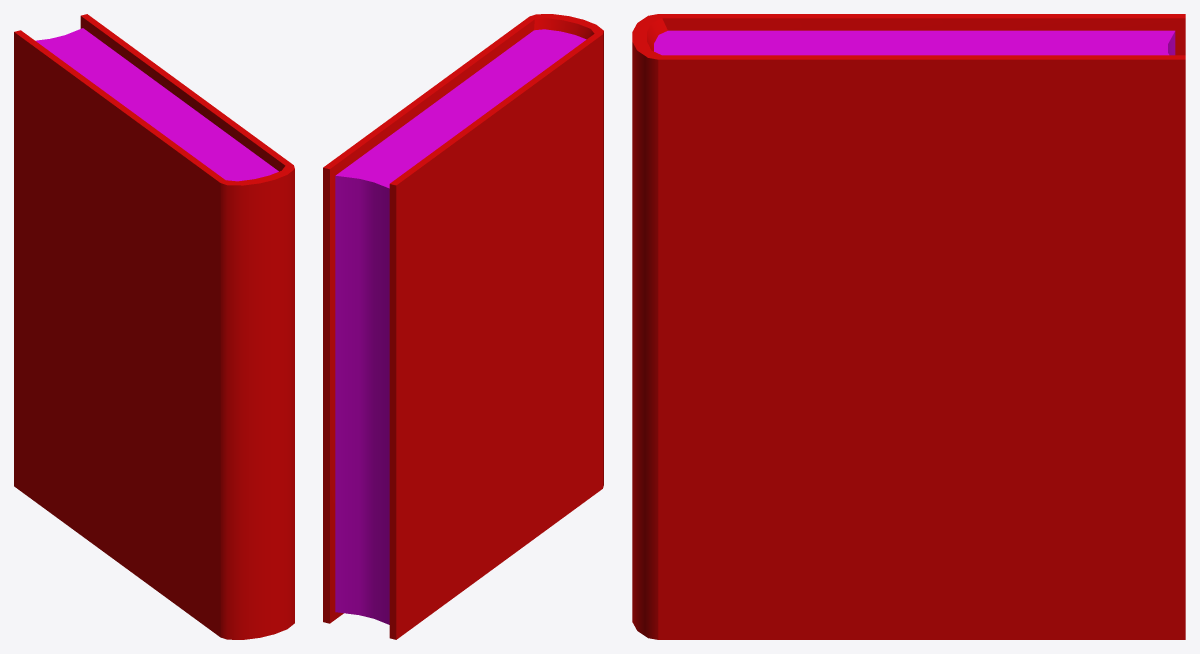
Rendered from SM_Book2.fbx.
3 renders of one model, left to right at view 1: azimuth 30°, elevation 25°; view 2: azimuth 150°, elevation 25°; view 3: azimuth 270°, elevation 25°, orthographic. The views are drawn at different scales.
Visible parts, largest first — view 1: SM_Book2; view 2: SM_Book2; view 3: SM_Book2.
Part boxes in pixels (<box>): SM_Book2: <box>14,14,294,639</box>; SM_Book2: <box>323,14,603,639</box>; SM_Book2: <box>632,14,1185,639</box>.
Size of the model in its own units: 6.17 by 36.55 by 31.59.
